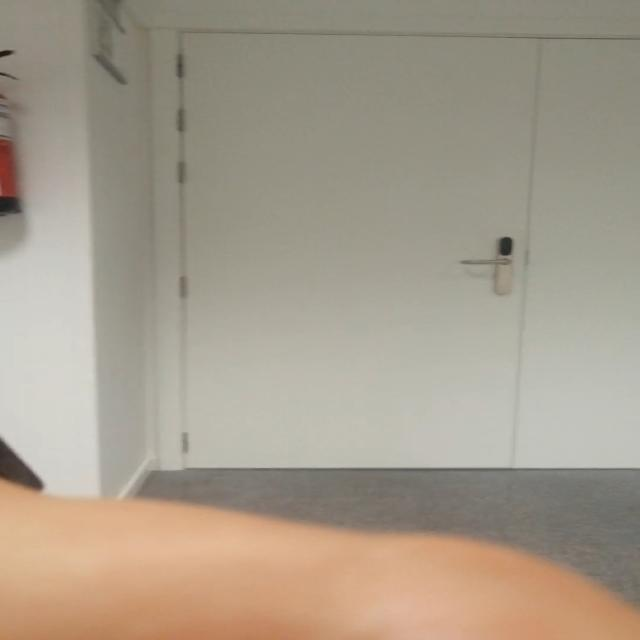door_handle: (457, 257, 517, 266)
